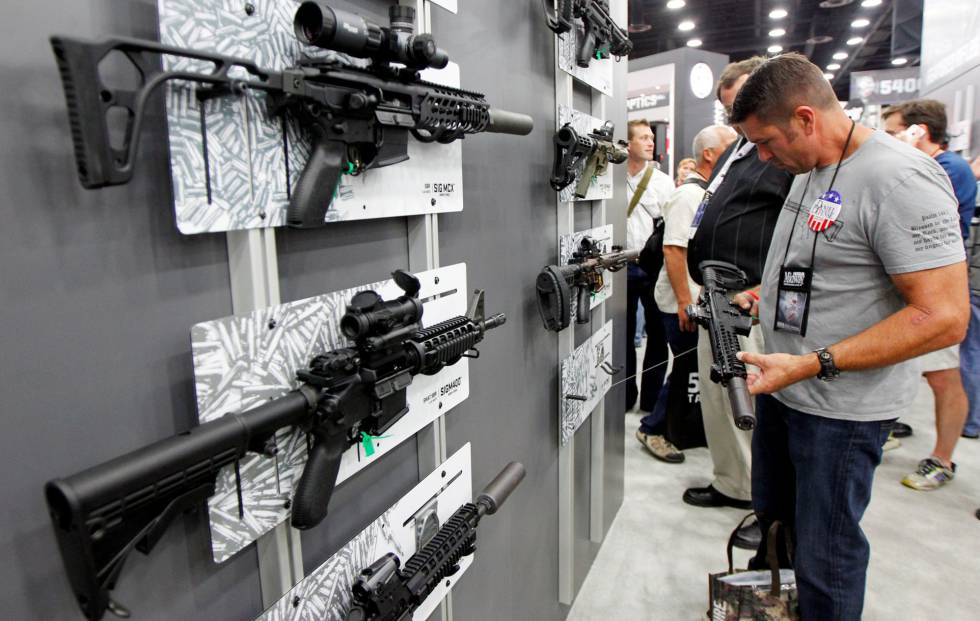Arma Real: (42, 270, 511, 563), (18, 1, 546, 226), (678, 252, 774, 430)
